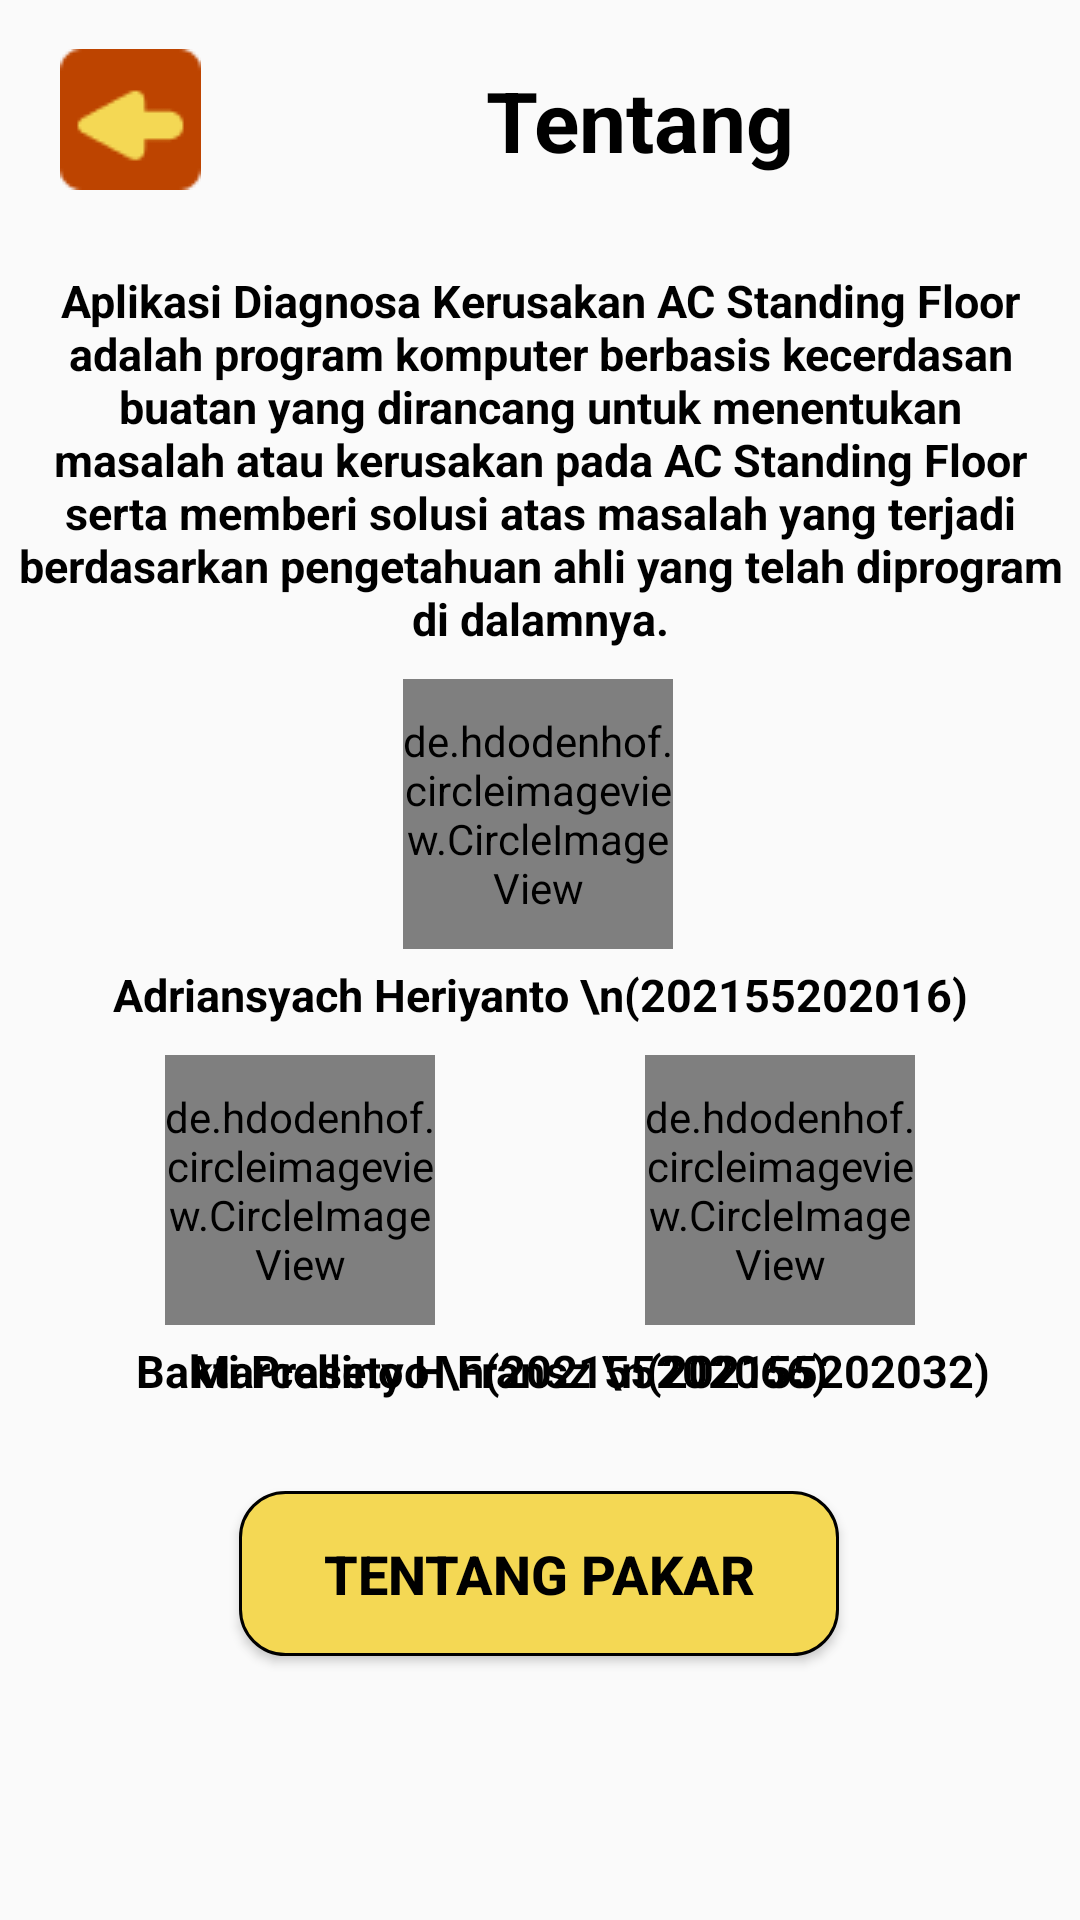

Point at icon controls on the screen. Image size 1080px×1920px, points as (x,y).
bek: (130,119)
